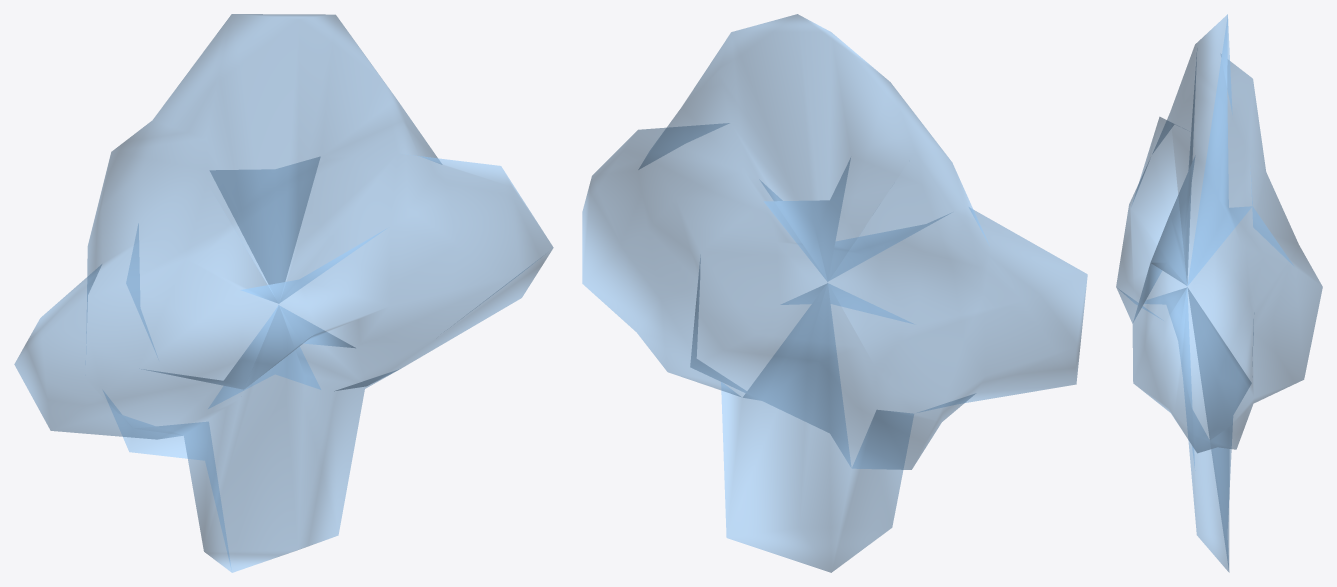
File: tdisplace_shield.gltf
3 renders of one model, left to right at view 1: azimuth 30°, elevation 25°; view 2: azimuth 150°, elevation 25°; view 3: azimuth 270°, elevation 25°, orthographic. The views are drawn at different scales.
Parts seen in each view (by area): view 1: tdisplace.shield; view 2: tdisplace.shield; view 3: tdisplace.shield.
Part boxes in pixels (box(x1,y1,x2,y2)): tdisplace.shield: box(14, 14, 553, 572); tdisplace.shield: box(582, 14, 1087, 572); tdisplace.shield: box(1116, 14, 1322, 572).
Bounding box in the file's own units: 21.89 × 22.3 × 8.04.
